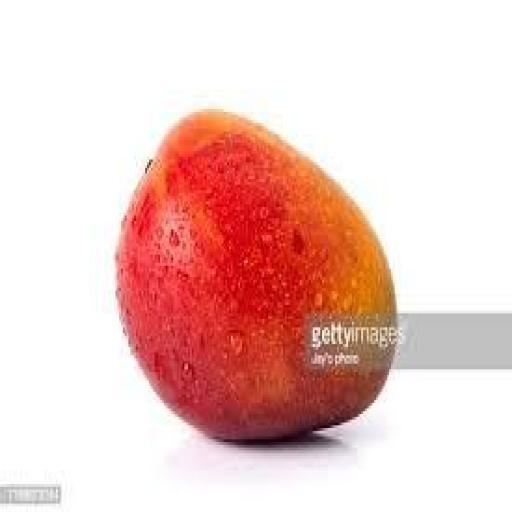mango: (118, 112, 394, 439)
